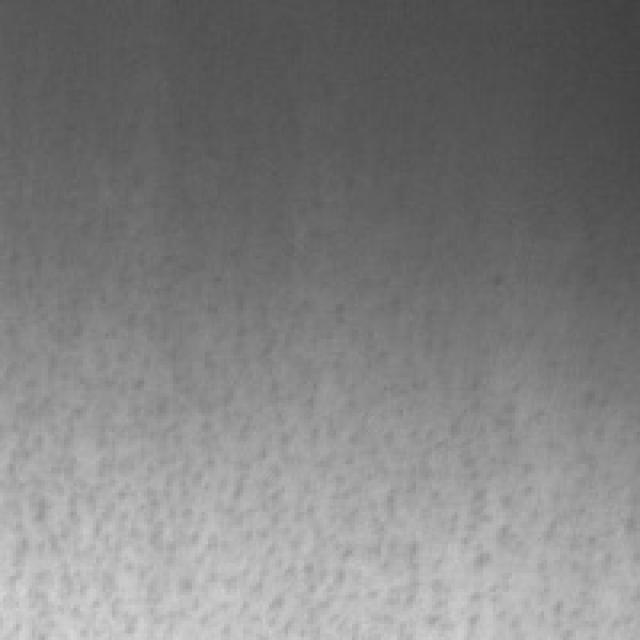pitted_surface: (13, 176, 621, 618)
